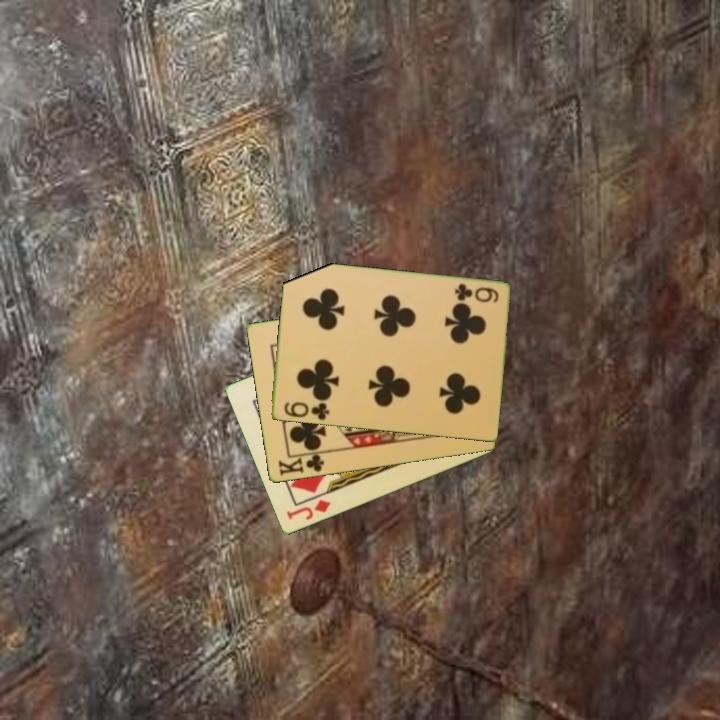6c: (280, 398, 332, 423), (451, 280, 501, 306)
Jd: (283, 496, 334, 523)
Kc: (274, 449, 328, 479)
